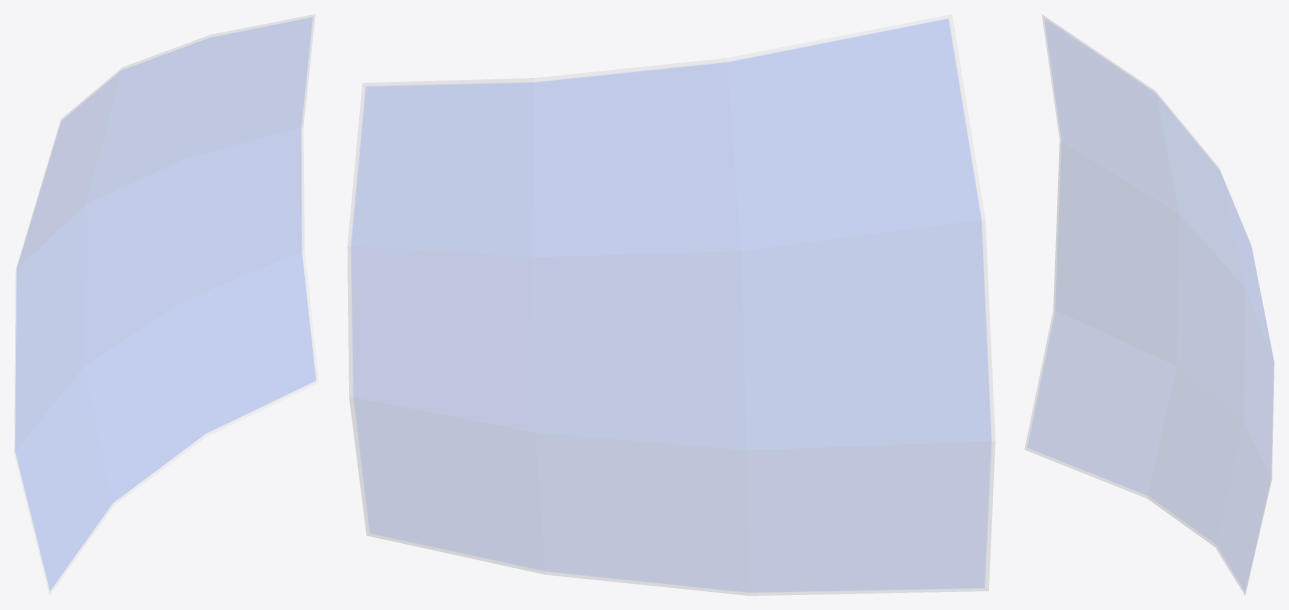
File: building_silhouette_02.glb
The picture shows the model from 3 angles, left to right: view 1: azimuth 30°, elevation 25°; view 2: azimuth 150°, elevation 25°; view 3: azimuth 270°, elevation 25°; orthographic projection. The views are drawn at different scales.
Visible parts, largest first — view 1: Plane; view 2: Plane; view 3: Plane.
Part boxes in pixels (x1,y1,x2,y2): Plane: (14, 14, 318, 594); Plane: (347, 14, 995, 595); Plane: (1025, 15, 1274, 594).
Bounding box in the file's own units: 326 × 357 × 182.
1 material, 1 textured.
